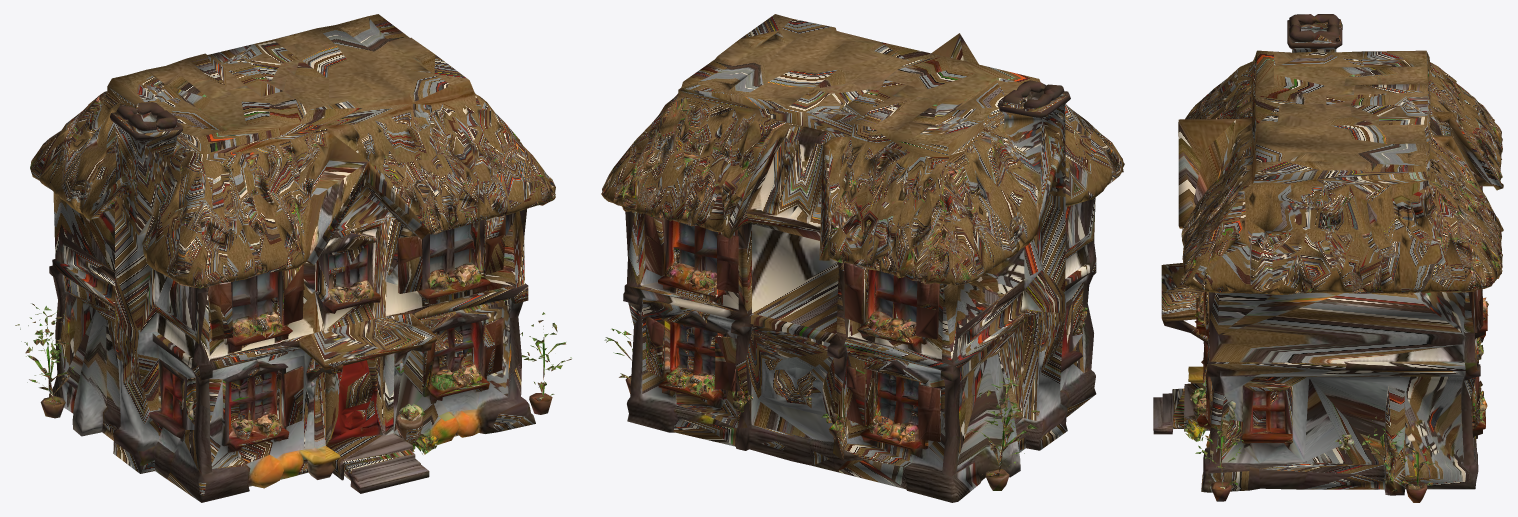
Rendered from Rpg_house.glb.
The picture shows the model from 3 angles, left to right: view 1: azimuth 30°, elevation 25°; view 2: azimuth 150°, elevation 25°; view 3: azimuth 270°, elevation 25°; orthographic projection. The views are drawn at different scales.
Parts seen in each view (by area): view 1: Rpg_house; view 2: Rpg_house; view 3: Rpg_house.
Boxes of the visible parts, left/top/right/bottom form: Rpg_house: left=15, top=14, right=571, bottom=502; Rpg_house: left=601, top=14, right=1124, bottom=502; Rpg_house: left=1153, top=14, right=1503, bottom=502.
Bounding box in the file's own units: 1.88 × 1.46 × 1.42.
Materials: 1 (1 with a texture image).
